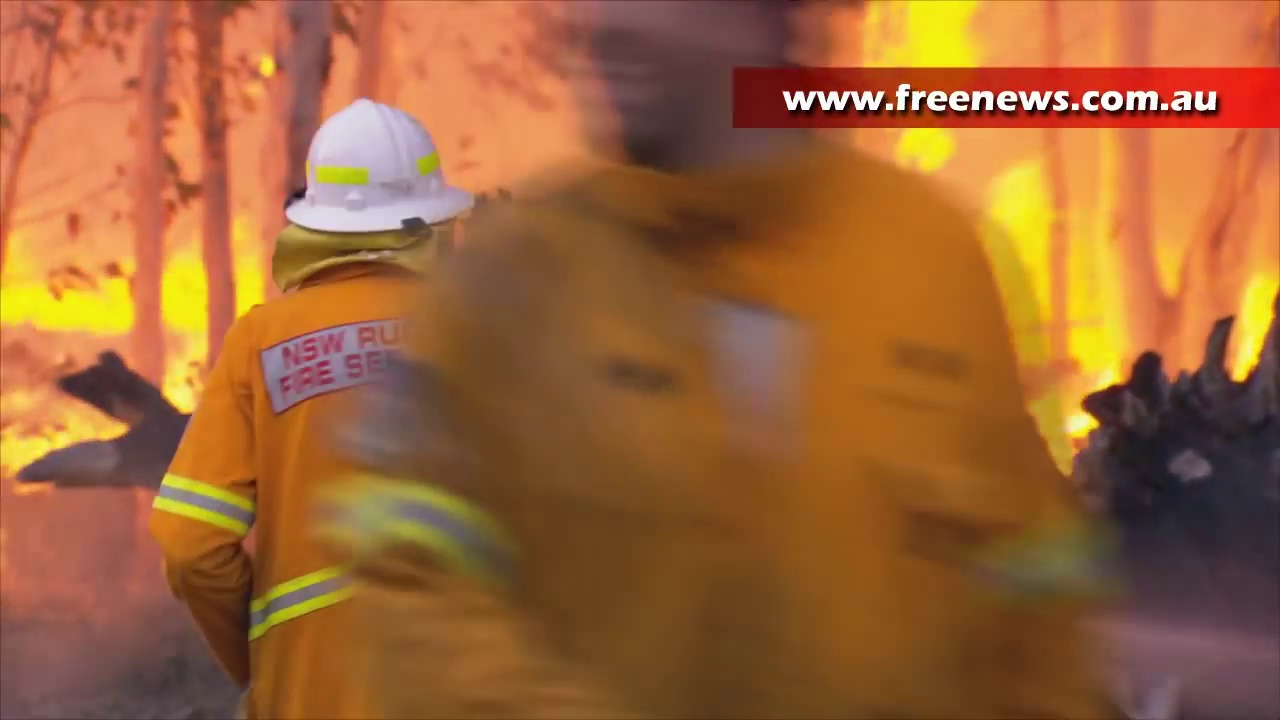fire: (1070, 414, 1096, 435)
